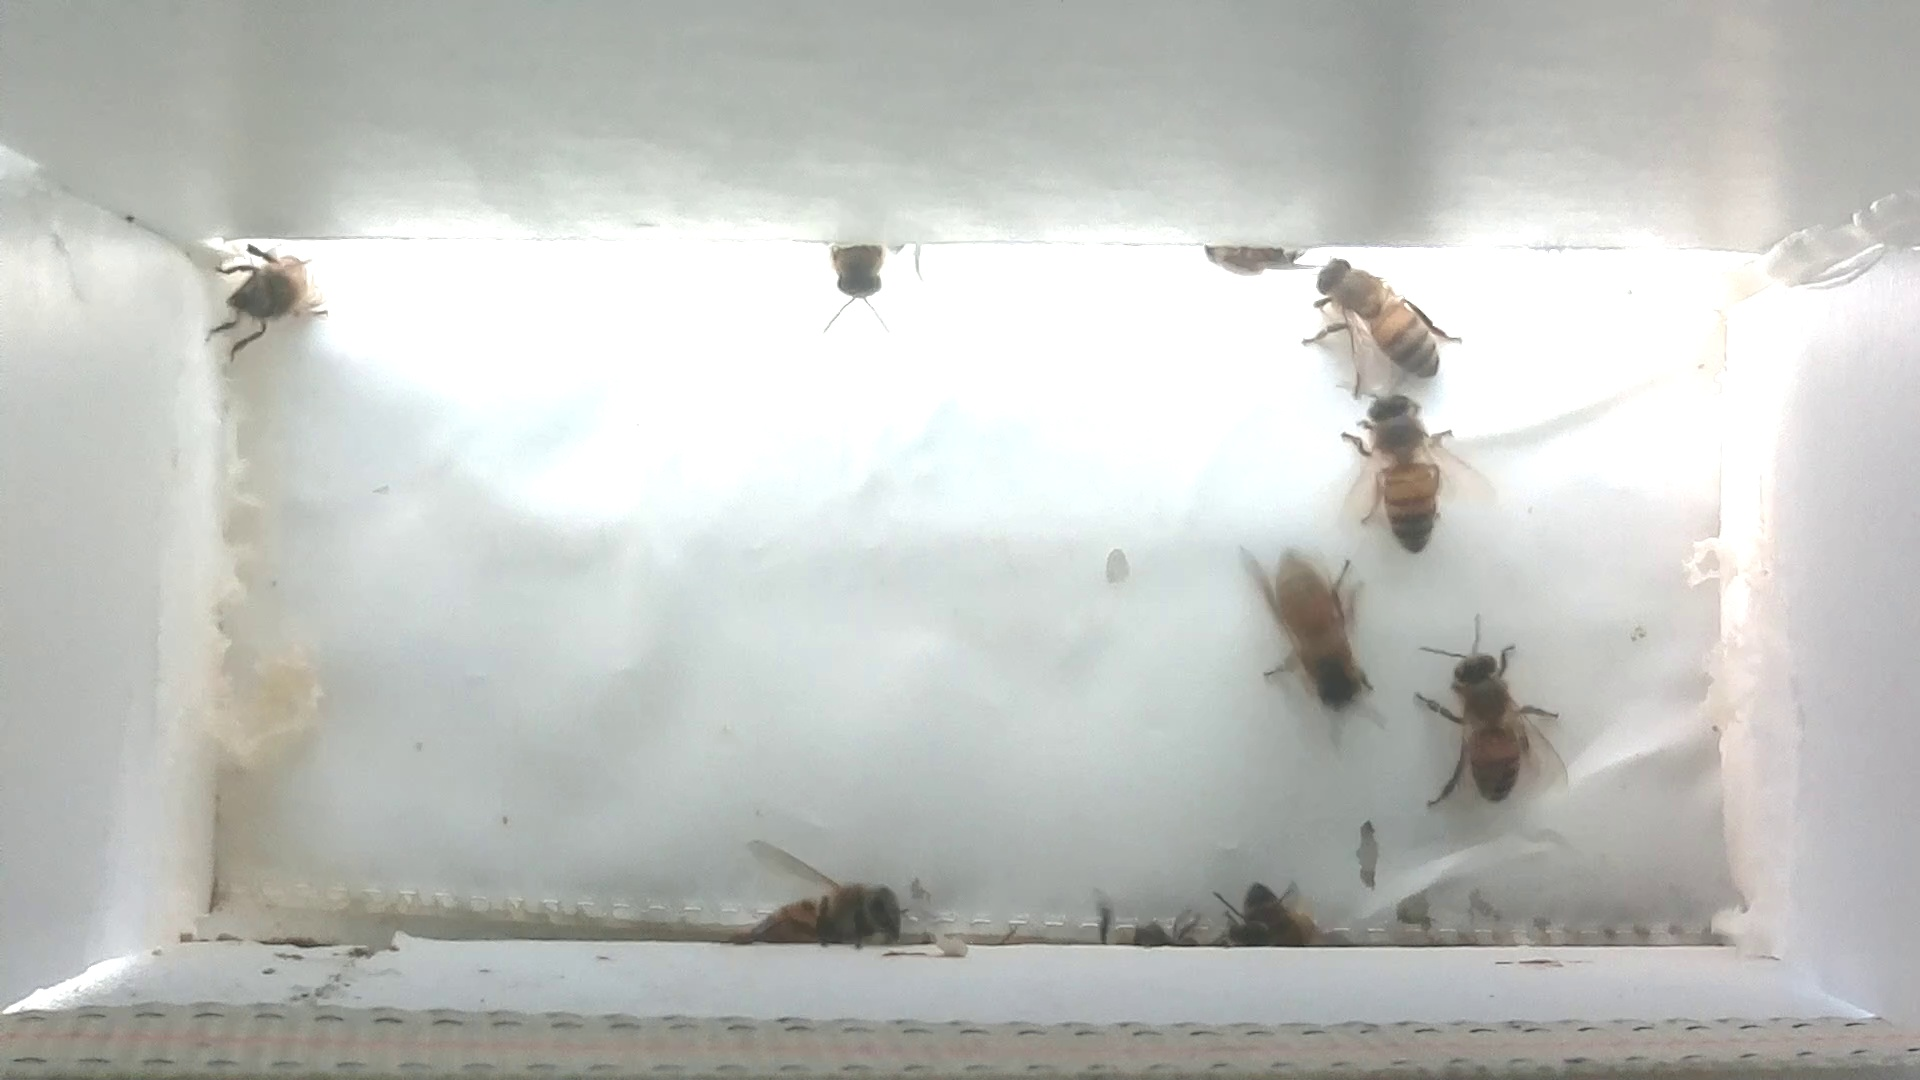bee: (1404, 605, 1578, 818), (1333, 375, 1487, 574), (1236, 535, 1390, 720), (1300, 247, 1458, 410), (716, 829, 920, 956), (210, 229, 331, 367), (1211, 872, 1328, 959), (804, 239, 909, 335), (1193, 239, 1324, 287)
